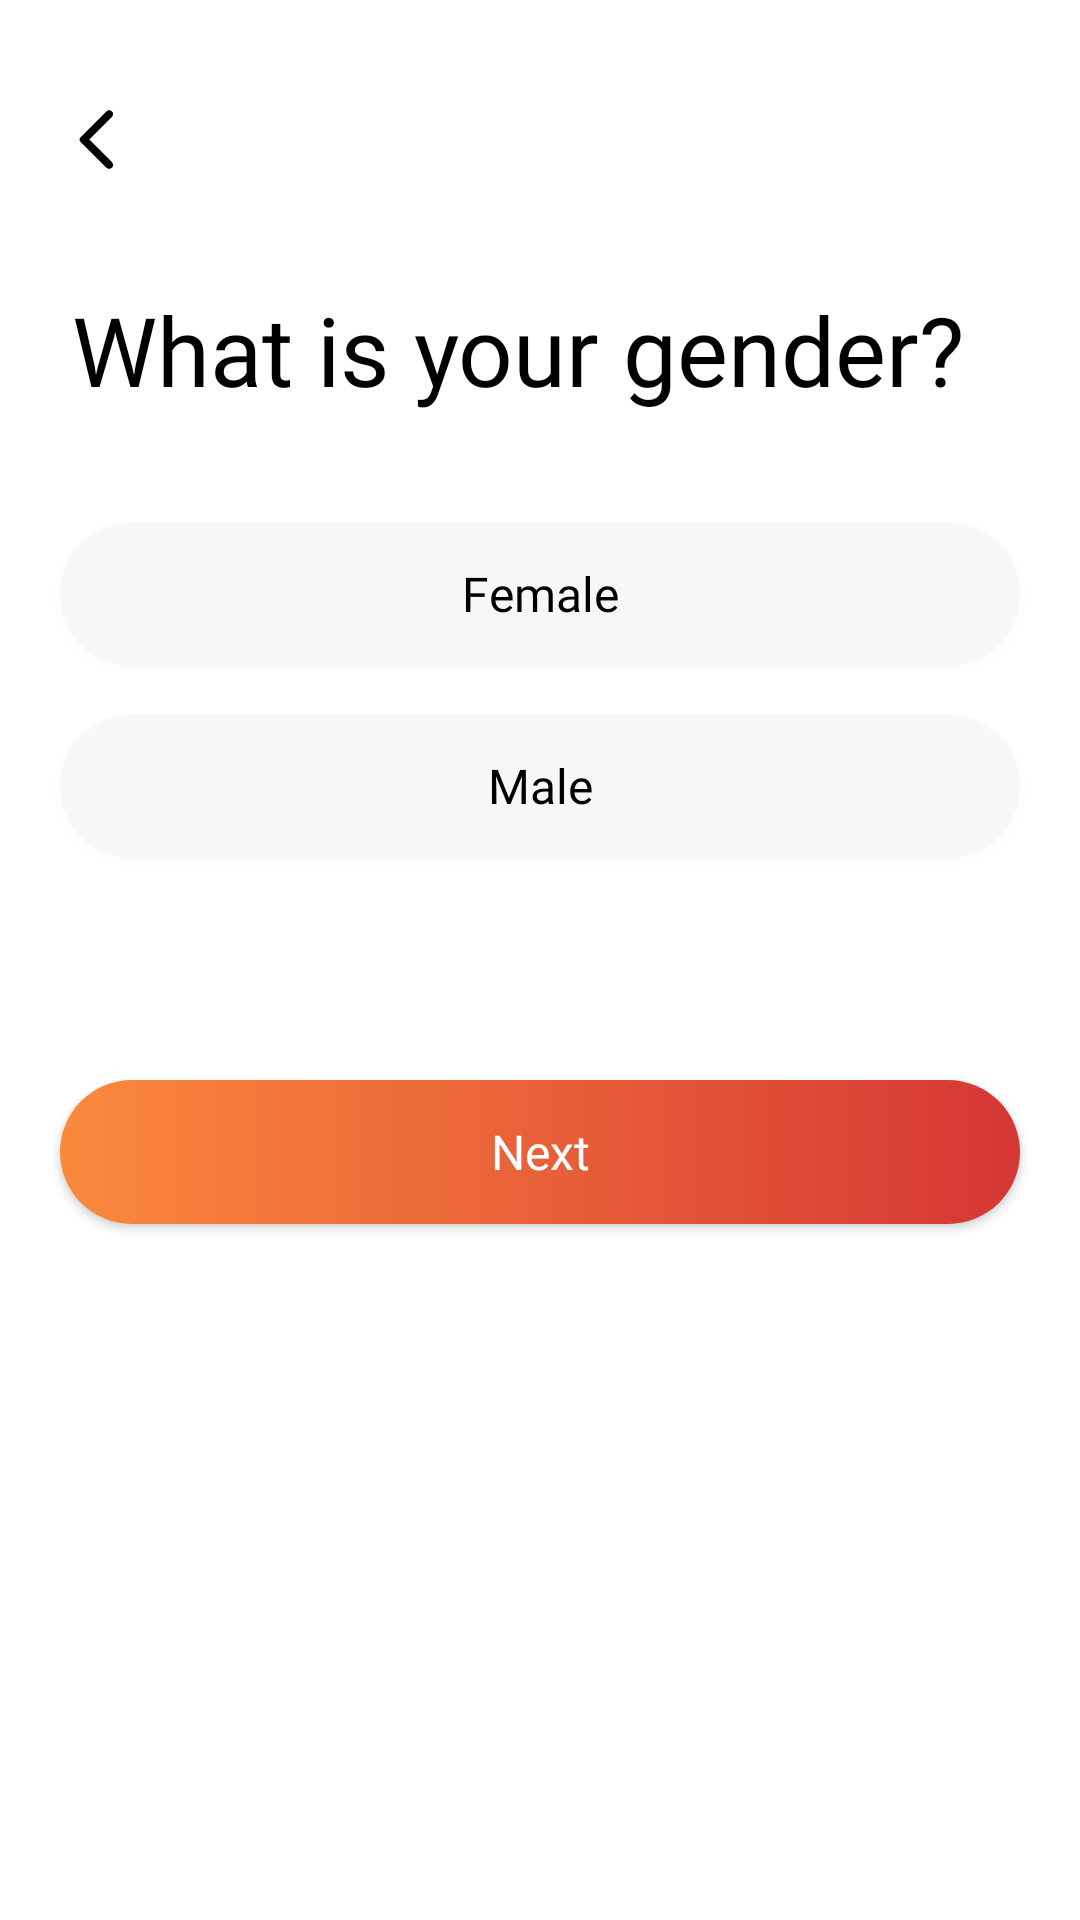

Icon bounding boxes for this 1080x1920 phone screenshot, format (x1, y1, x2, y2):
arrow back: (79, 110, 113, 169)
